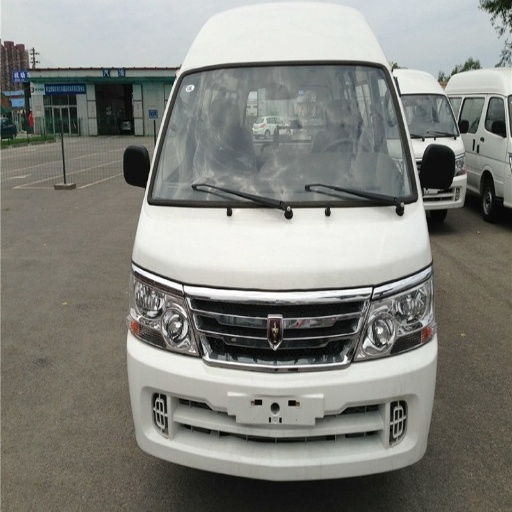front_bumper: (128, 285, 436, 478)
front_right_light: (131, 269, 199, 356)
hood: (135, 204, 429, 290)
left_mirror: (425, 145, 458, 199)
